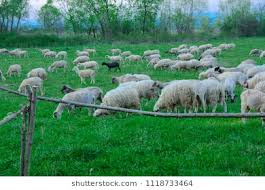sheep: (96, 85, 144, 120), (151, 82, 194, 118), (53, 90, 97, 122), (237, 90, 265, 122), (17, 76, 44, 96), (70, 64, 96, 84), (170, 59, 192, 75), (46, 60, 68, 75), (25, 66, 47, 78), (101, 60, 121, 73), (153, 58, 170, 72), (6, 63, 22, 76), (124, 53, 141, 64), (104, 53, 122, 63), (53, 50, 69, 59), (15, 50, 29, 58), (39, 47, 50, 57), (108, 47, 120, 55), (247, 47, 258, 55), (225, 41, 235, 49)
